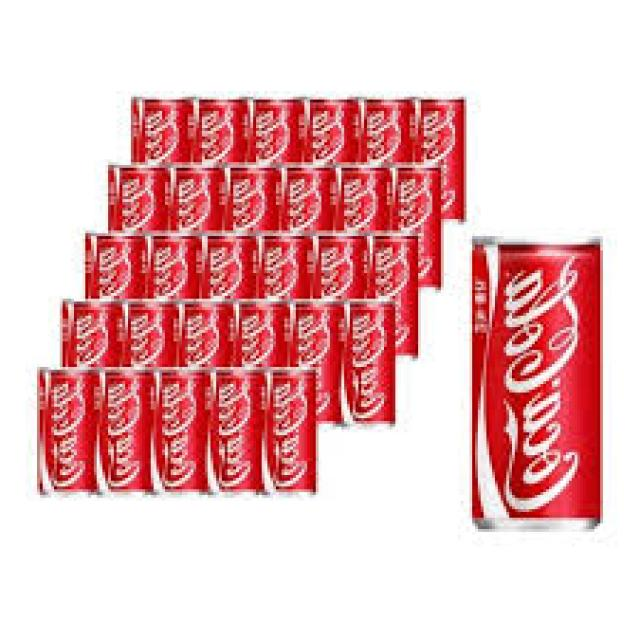Coca-Cola: (470, 228, 611, 543), (129, 93, 196, 231), (259, 362, 322, 503), (254, 233, 318, 370), (36, 368, 98, 505), (220, 155, 285, 285), (143, 224, 203, 361), (228, 291, 287, 430), (64, 291, 122, 428), (344, 293, 402, 427), (107, 158, 171, 279), (151, 362, 205, 502), (76, 236, 140, 354), (168, 156, 227, 282), (368, 225, 426, 353), (96, 366, 150, 503), (311, 228, 367, 357), (288, 295, 341, 431), (362, 95, 416, 228), (195, 95, 249, 228), (205, 361, 257, 499), (250, 94, 306, 222), (175, 294, 230, 424), (394, 159, 447, 292), (332, 159, 388, 283), (306, 95, 360, 222), (416, 90, 468, 216), (126, 291, 176, 418), (204, 232, 252, 361), (282, 163, 332, 281)
